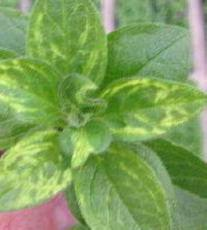Tomato leaf mosaic virus: (29, 0, 112, 112), (71, 147, 172, 230), (97, 76, 207, 141), (0, 58, 74, 131)
